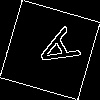A: (25, 25, 81, 77)
